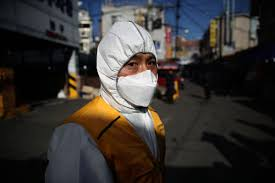masked: (92, 21, 164, 112)
